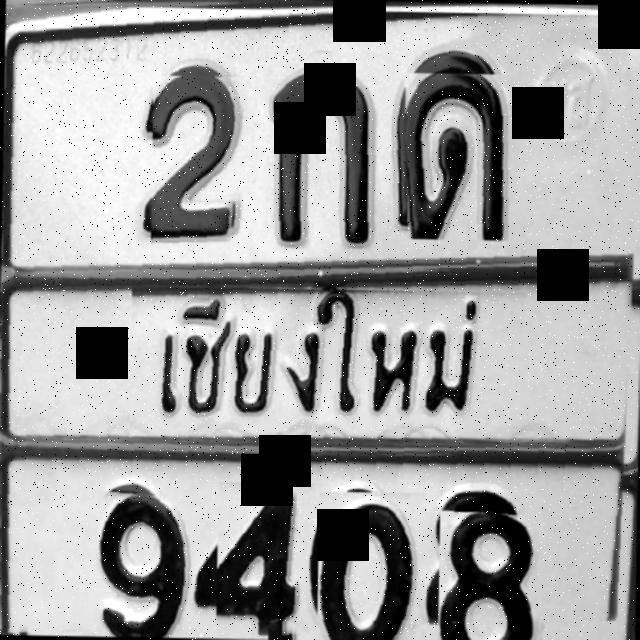letters: (261, 51, 391, 258), (402, 72, 528, 240), (82, 489, 196, 638), (316, 491, 425, 640), (151, 75, 246, 245), (216, 481, 316, 640), (437, 510, 547, 640)
license-plate: (3, 10, 640, 634)
province: (129, 286, 526, 444)
